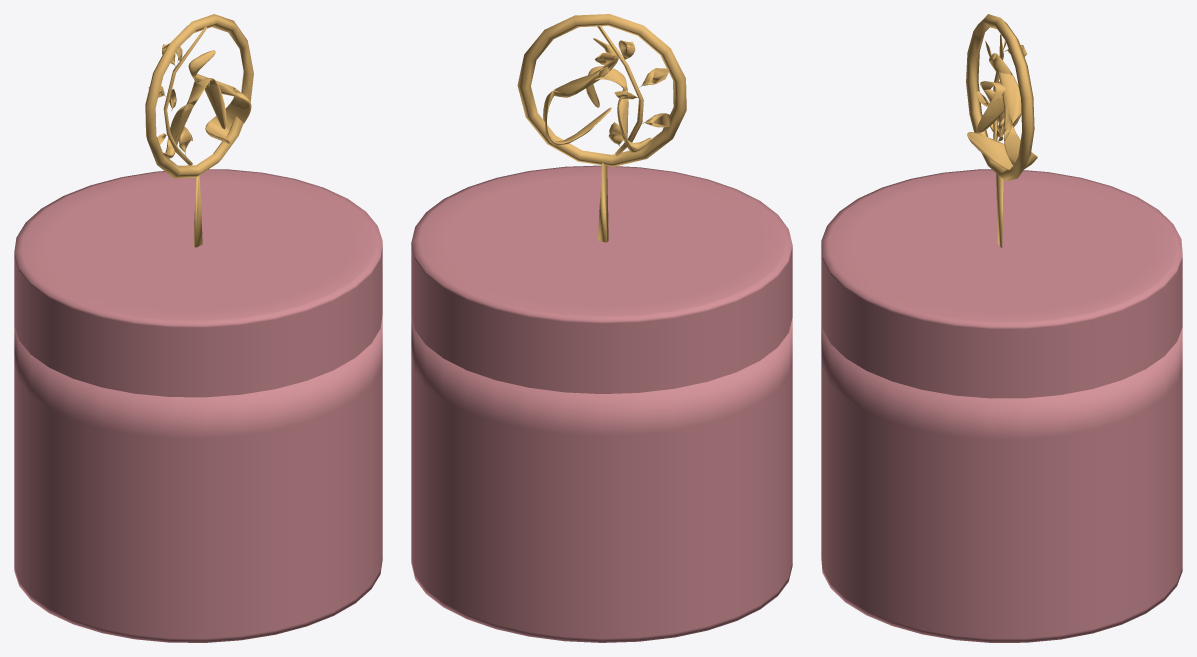
File: 1-tier-blush-none-ring.glb
The picture shows the model from 3 angles, left to right: view 1: azimuth 30°, elevation 25°; view 2: azimuth 150°, elevation 25°; view 3: azimuth 270°, elevation 25°; orthographic projection.
Parts seen in each view (by area): view 1: Cylinder.019, Cylinder.017; view 2: Cylinder.019, Cylinder.017; view 3: Cylinder.019, Cylinder.017.
Boxes of the visible parts, x1,y1,x2,y2 form: Cylinder.019: (14, 169, 382, 642); Cylinder.017: (145, 14, 253, 247); Cylinder.019: (411, 165, 792, 642); Cylinder.017: (517, 14, 686, 242); Cylinder.019: (821, 169, 1182, 642); Cylinder.017: (966, 14, 1037, 247).
Size of the model in its own units: 2.63 by 4.23 by 2.55.
